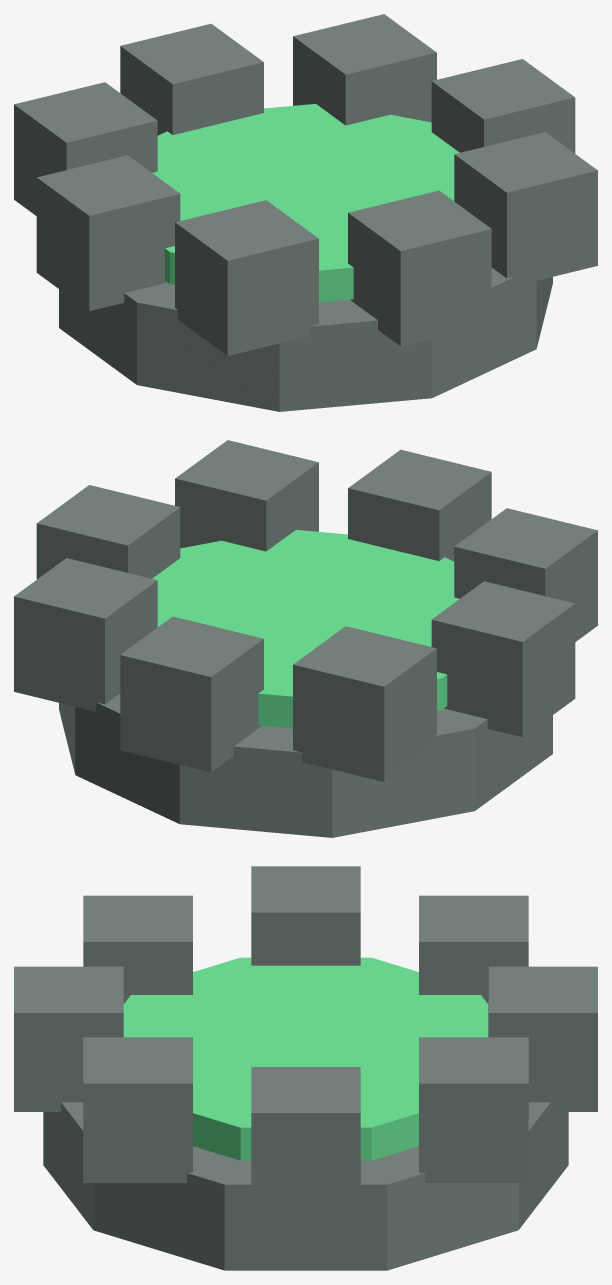
Rendered from well.fbx.
3 views of the same model, one above another, from view 1: azimuth 30°, elevation 25°; view 2: azimuth 150°, elevation 25°; view 3: azimuth 270°, elevation 25° (orthographic). The views are drawn at different scales.
Visible parts, largest first — view 1: Base, Water, StoneRim.005, StoneRim.006, StoneRim.004, StoneRim.007, StoneRim.001, StoneRim.002, StoneRim.003, StoneRim; view 2: Base, Water, StoneRim.003, StoneRim.002, StoneRim.004, StoneRim.001, StoneRim.007, StoneRim.006, StoneRim.005, StoneRim; view 3: Base, Water, StoneRim, StoneRim.001, StoneRim.007, StoneRim.002, StoneRim.006, StoneRim.004, StoneRim.003, StoneRim.005.
Part boxes in pixels (left/top/right/bottom): Base: left=59, top=268, right=552, bottom=411; Water: left=152, top=104, right=459, bottom=302; StoneRim.005: left=175, top=200, right=318, bottom=355; StoneRim.006: left=348, top=190, right=491, bottom=346; StoneRim.004: left=36, top=155, right=180, bottom=311; StoneRim.007: left=454, top=132, right=597, bottom=285; StoneRim.001: left=293, top=14, right=436, bottom=125; StoneRim.002: left=120, top=23, right=263, bottom=135; StoneRim.003: left=14, top=82, right=157, bottom=215; StoneRim: left=431, top=59, right=575, bottom=153; Base: left=59, top=694, right=552, bottom=837; Water: left=152, top=530, right=459, bottom=728; StoneRim.003: left=293, top=626, right=436, bottom=781; StoneRim.002: left=120, top=616, right=263, bottom=772; StoneRim.004: left=431, top=581, right=575, bottom=737; StoneRim.001: left=14, top=558, right=157, bottom=711; StoneRim.007: left=175, top=440, right=318, bottom=551; StoneRim.006: left=348, top=449, right=491, bottom=561; StoneRim.005: left=454, top=508, right=597, bottom=641; StoneRim: left=36, top=485, right=180, bottom=579; Base: left=43, top=1102, right=568, bottom=1270; Water: left=123, top=957, right=488, bottom=1160; StoneRim: left=251, top=1067, right=360, bottom=1212; StoneRim.001: left=419, top=1037, right=528, bottom=1182; StoneRim.007: left=83, top=1037, right=192, bottom=1182; StoneRim.002: left=488, top=966, right=597, bottom=1111; StoneRim.006: left=14, top=966, right=123, bottom=1111; StoneRim.004: left=251, top=866, right=360, bottom=965; StoneRim.003: left=419, top=895, right=528, bottom=1003; StoneRim.005: left=83, top=895, right=192, bottom=1003.
Size of the model in its own units: 160 by 53 by 160.
